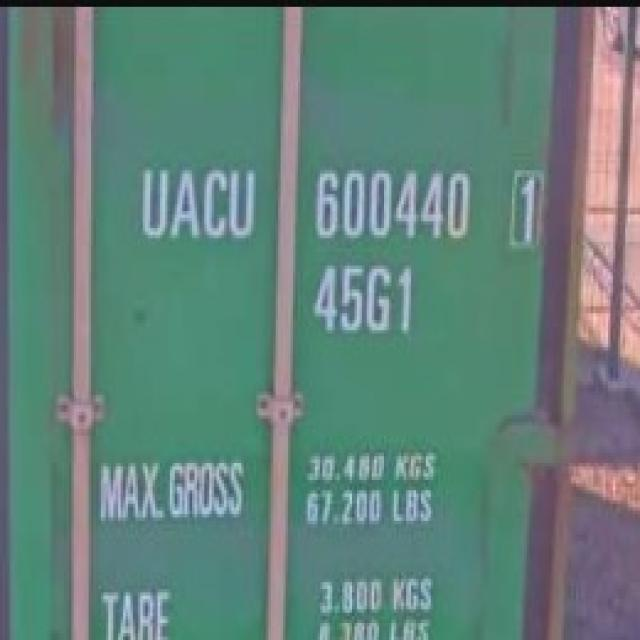dv: (502, 163, 546, 254)
owner: (135, 158, 260, 247)
serial: (308, 162, 476, 246)
size: (306, 260, 426, 339)
